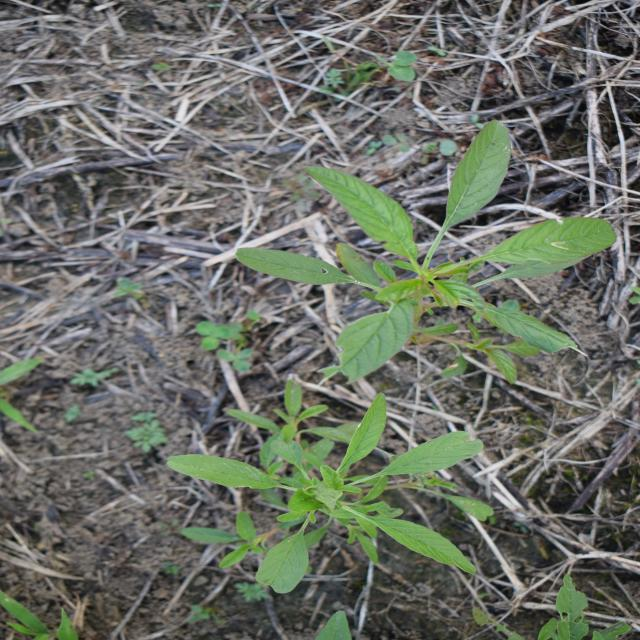Waterhemp: (233, 118, 619, 384), (164, 377, 497, 595)
